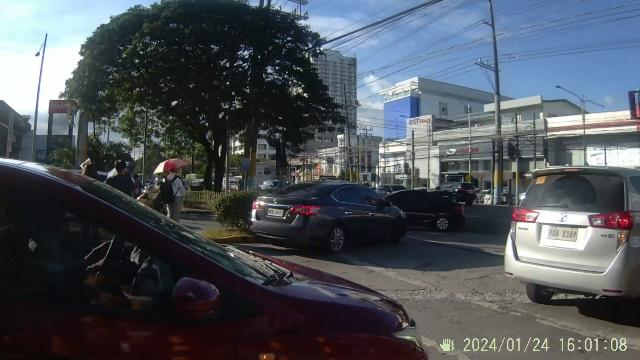car: (248, 180, 408, 248)
lamp_post: (554, 81, 608, 165)
utility_post: (472, 2, 514, 138)
